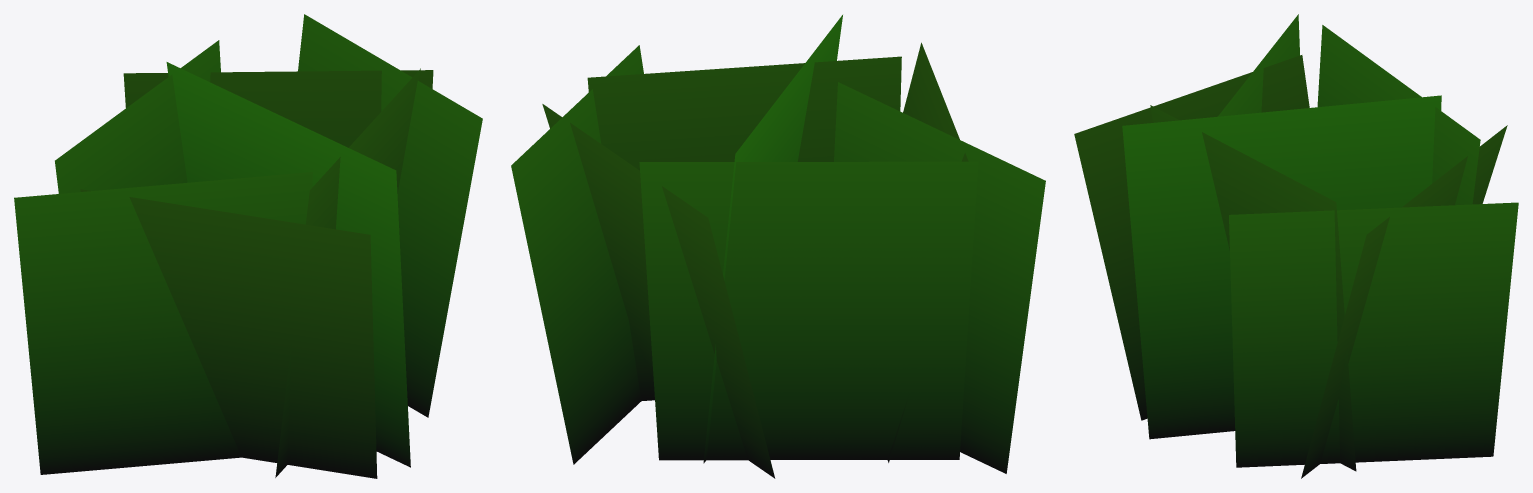
File: GrassPatch_05.fbx
3 views of the same model, side by side, from view 1: azimuth 30°, elevation 25°; view 2: azimuth 150°, elevation 25°; view 3: azimuth 270°, elevation 25° (orthographic). The views are drawn at different scales.
Visible parts, largest first — view 1: TEM_Grass_Patch_05A_LOD0; view 2: TEM_Grass_Patch_05A_LOD0; view 3: TEM_Grass_Patch_05A_LOD0.
Part boxes in pixels (left/top/right/bottom): TEM_Grass_Patch_05A_LOD0: left=14, top=14, right=482, bottom=478; TEM_Grass_Patch_05A_LOD0: left=511, top=15, right=1045, bottom=478; TEM_Grass_Patch_05A_LOD0: left=1074, top=14, right=1518, bottom=478.
Size of the model in its own units: 58.97 by 39.13 by 52.3.
